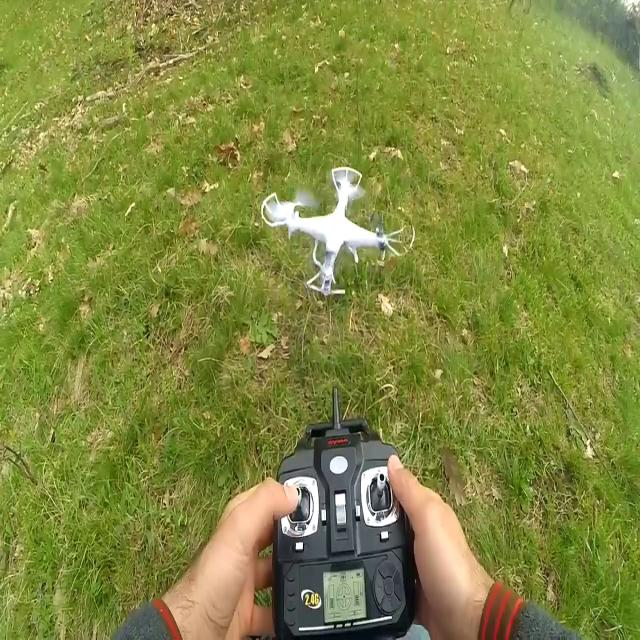drones: (262, 166, 416, 302)
